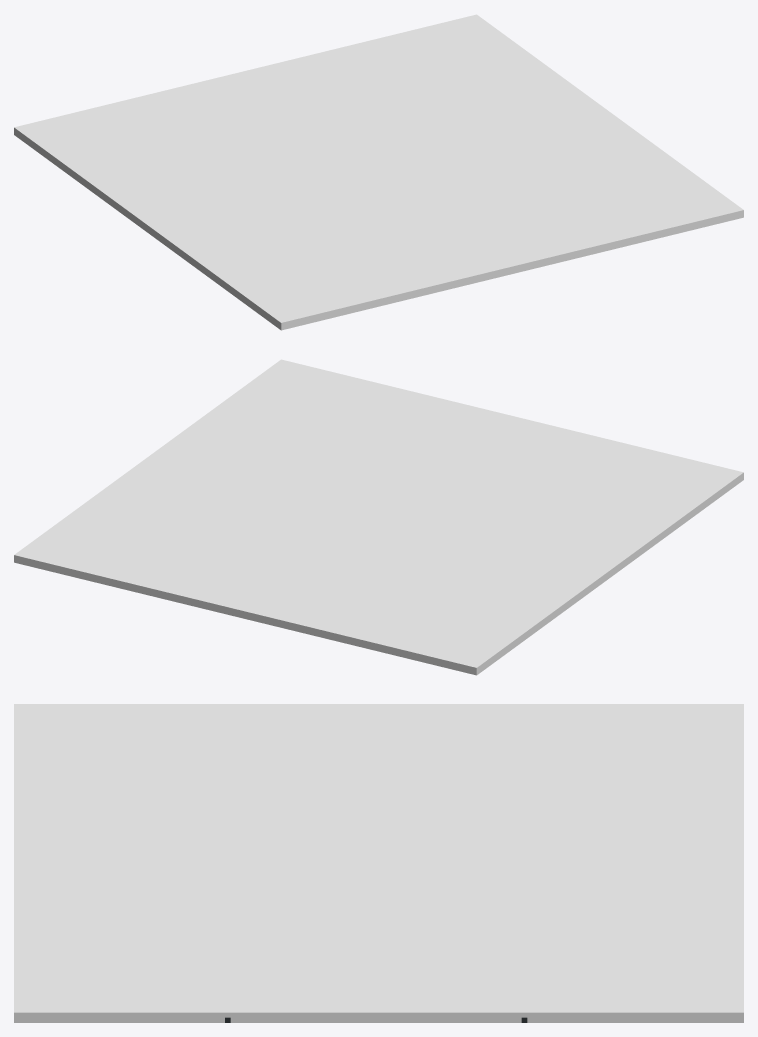
File: inside_classroom_ceiling_2.obj
3 views of the same model, one above another, from view 1: azimuth 30°, elevation 25°; view 2: azimuth 150°, elevation 25°; view 3: azimuth 270°, elevation 25° (orthographic). The views are drawn at different scales.
Bounding box in the file's own units: 12.8 × 0.4 × 12.8.
1 material, 1 textured.
